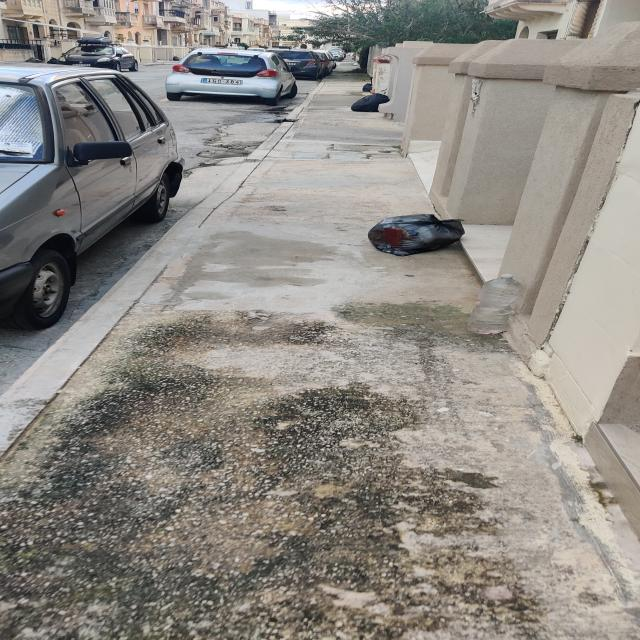Mixed Waste -Black Bags-: (374, 213, 468, 254), (344, 93, 391, 117)
